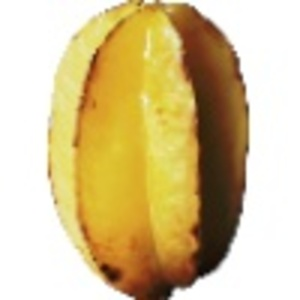carambola: (45, 1, 251, 300)
